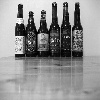beer: (15, 2, 26, 56)
